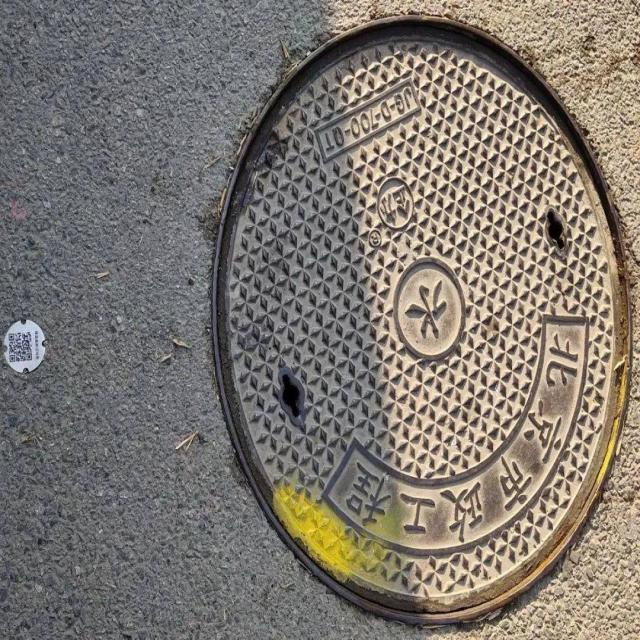manhole: (211, 0, 635, 624)
